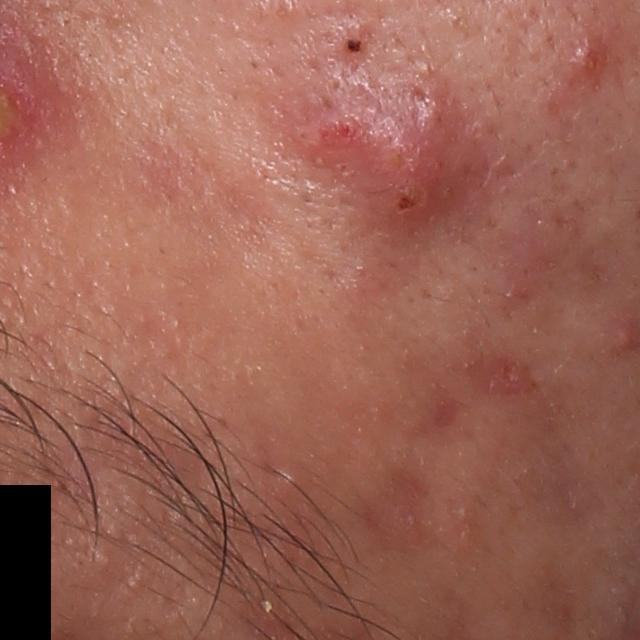nodule: (292, 79, 509, 248)
papule: (558, 31, 616, 88), (611, 320, 639, 354)
